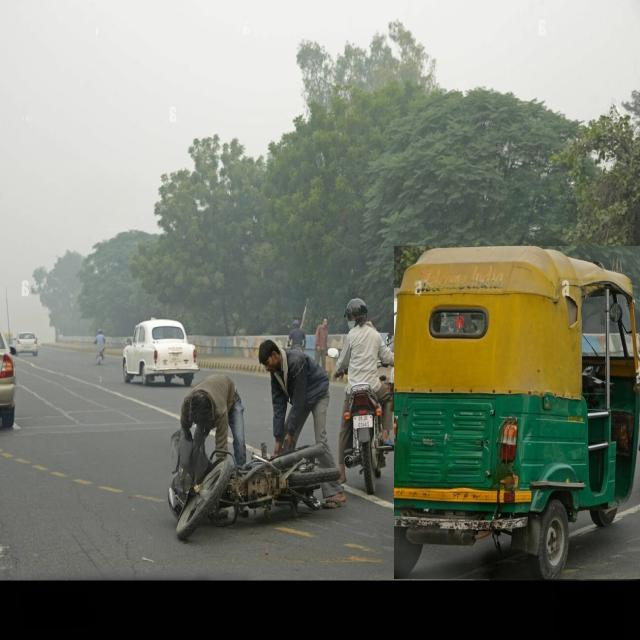accident: (169, 431, 336, 540)
autorickshaw: (394, 246, 640, 579)
car: (122, 319, 199, 386)
motorcycle: (336, 299, 395, 493)
